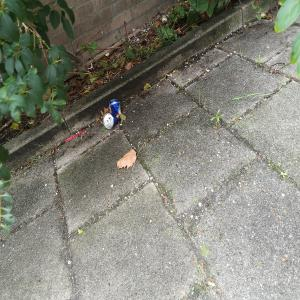Can: (103, 98, 127, 134)
Trash: (63, 128, 89, 146)
